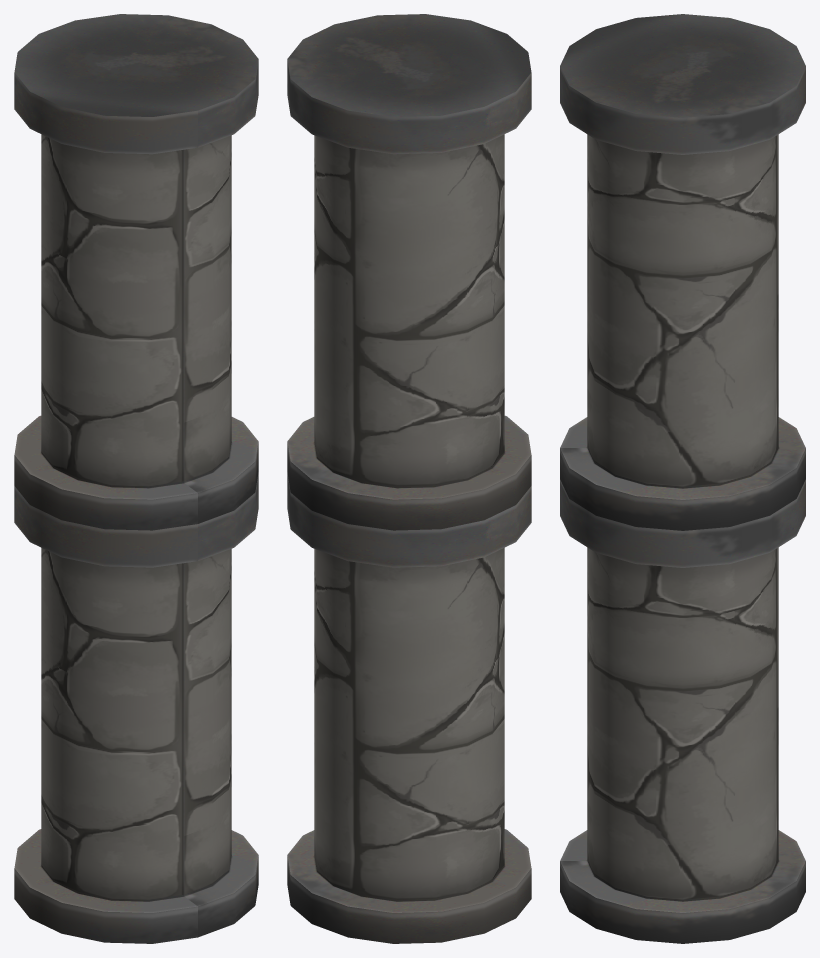
The model's file is SM_pillarBridge.fbx.
3 renders of one model, left to right at view 1: azimuth 30°, elevation 25°; view 2: azimuth 150°, elevation 25°; view 3: azimuth 270°, elevation 25°, orthographic.
Visible parts, largest first — view 1: SM_pillarBridge; view 2: SM_pillarBridge; view 3: SM_pillarBridge.
Part boxes in pixels (x1,y1,x2,y2): SM_pillarBridge: (14, 14, 258, 943); SM_pillarBridge: (287, 14, 531, 943); SM_pillarBridge: (560, 14, 805, 943).
Size of the model in its own units: 3.03 by 11.23 by 3.03.
